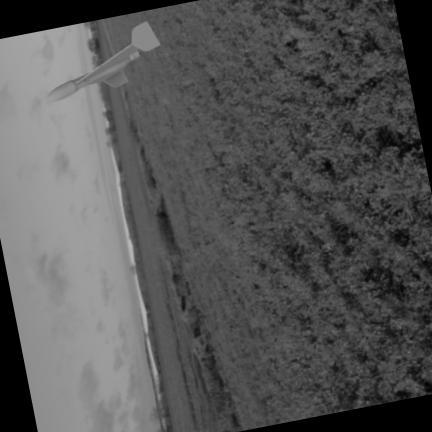Shahed: (48, 22, 160, 100)
